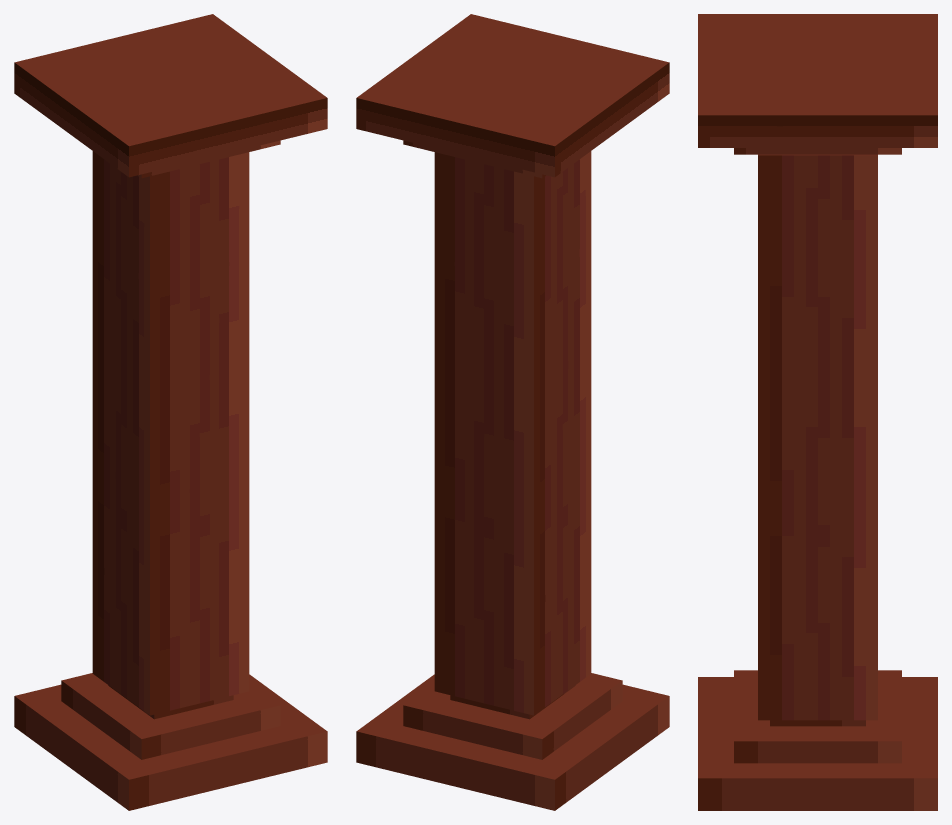
File: lib_int_pillarao.fezao.glb
The picture shows the model from 3 angles, left to right: view 1: azimuth 30°, elevation 25°; view 2: azimuth 150°, elevation 25°; view 3: azimuth 270°, elevation 25°; orthographic projection. The views are drawn at different scales.
Visible parts, largest first — view 1: LIB_INT_PILLARAO; view 2: LIB_INT_PILLARAO; view 3: LIB_INT_PILLARAO.
Boxes of the visible parts, x1=… form: LIB_INT_PILLARAO: x1=14, y1=14, x2=327, y2=810; LIB_INT_PILLARAO: x1=356, y1=14, x2=669, y2=810; LIB_INT_PILLARAO: x1=698, y1=14, x2=937, y2=810.
Size of the model in its own units: 1.25 by 4 by 1.25.
1 material, 1 textured.
